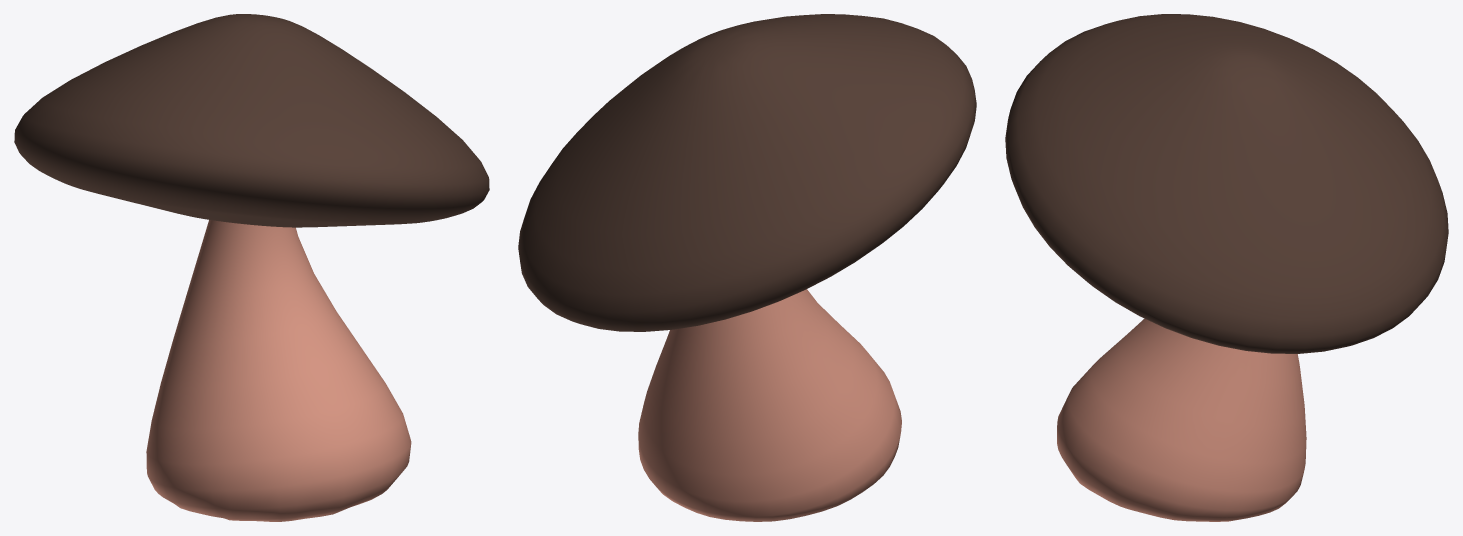
The model's file is Mushroom1Ani.fbx.
3 renders of one model, left to right at view 1: azimuth 30°, elevation 25°; view 2: azimuth 150°, elevation 25°; view 3: azimuth 270°, elevation 25°, orthographic. The views are drawn at different scales.
Parts seen in each view (by area): view 1: polySurface2, polySurface1; view 2: polySurface2, polySurface1; view 3: polySurface2, polySurface1.
Boxes of the visible parts, x1=… form: polySurface2: x1=14, y1=14, x2=489, y2=227; polySurface1: x1=146, y1=220, x2=411, y2=521; polySurface2: x1=518, y1=14, x2=976, y2=331; polySurface1: x1=638, y1=289, x2=901, y2=521; polySurface2: x1=1005, y1=14, x2=1448, y2=353; polySurface1: x1=1057, y1=318, x2=1306, y2=521.
Bounding box in the file's own units: 2.36 × 2.55 × 2.36.
